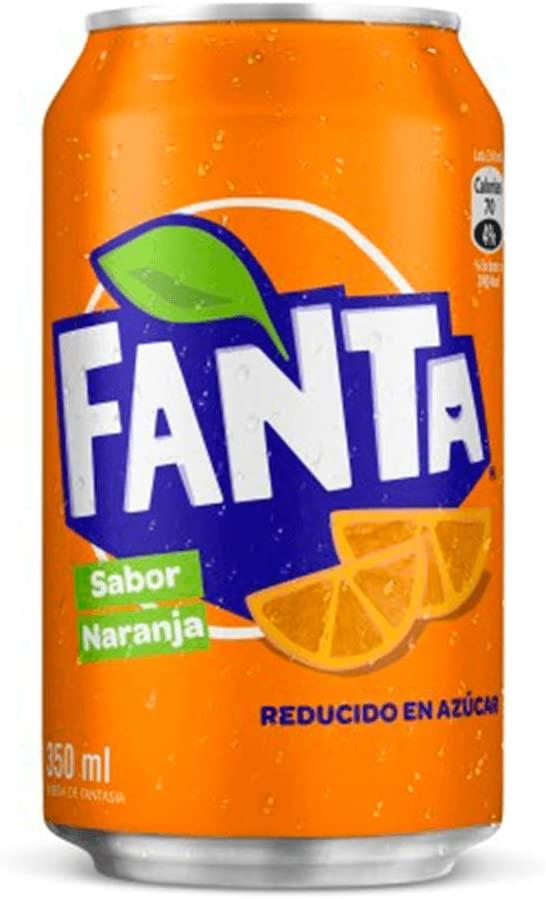metal: (43, 2, 503, 890)
